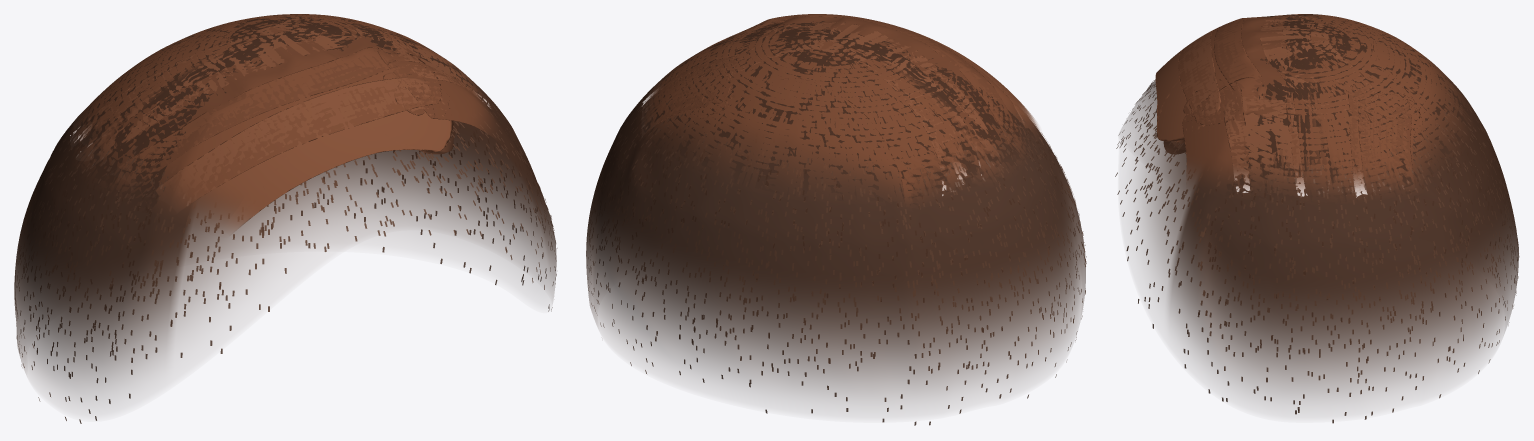
The model's file is Masculine-taper-covered248-hair.glb.
3 views of the same model, side by side, from view 1: azimuth 30°, elevation 25°; view 2: azimuth 150°, elevation 25°; view 3: azimuth 270°, elevation 25° (orthographic). The views are drawn at different scales.
Visible parts, largest first — view 1: 226 hair / Hair / neutral coverage235.002, 226 hair / Hair / sculpted 2.003 / blended tips214.002, 226 hair / Hair / sculpted 0.003 / blended tips214.002, 226 hair / Hair / sculpted 1.002 / blended tips214.001, 226 hair / Hair / cut grain235.002, 226 hair / Hair / blended back crown214.002, 226 hair / Hair / sculpted 2.003 / blended tips214.001, 226 hair / Hair / sculpted 1.002 / blended tips214.006, 226 hair / Hair / sculpted 0.003 / blended tips214.001, 226 hair / Hair / sculpted 2.003 / blended tips214.006; view 2: 226 hair / Hair / neutral coverage235.002, 226 hair / Hair / blended back crown214.002, 226 hair / Hair / cut grain235.002, 226 hair / Hair / sculpted 1.002 / blended tips214.001, 226 hair / Hair / sculpted 2.003 / blended tips214.001, 226 hair / Hair / sculpted 0.003 / blended tips214.001, 226 hair / Hair / sculpted 0.003 / blended tips214.002, 226 hair / Hair / sculpted 1.002 / blended tips214.002, 226 hair / Hair / sculpted 0.003 / blended tips214.006, 226 hair / Hair / sculpted 2.003 / blended tips214.002; view 3: 226 hair / Hair / neutral coverage235.002, 226 hair / Hair / blended back crown214.002, 226 hair / Hair / cut grain235.002, 226 hair / Hair / sculpted 2.003 / blended tips214.006, 226 hair / Hair / sculpted 1.002 / blended tips214.006, 226 hair / Hair / sculpted 2.003 / blended tips214.002, 226 hair / Hair / sculpted 1.002 / blended tips214.001, 226 hair / Hair / sculpted 0.003 / blended tips214.002, 226 hair / Hair / sculpted 0.003 / blended tips214.006, 226 hair / Hair / sculpted 1.002 / blended tips214.002, 226 hair / Hair / sculpted 2.003 / blended tips214.001, 226 hair / Hair / sculpted 0.003 / blended tips214.001.
Boxes of the visible parts, x1=… form: 226 hair / Hair / neutral coverage235.002: x1=14, y1=14, x2=556, y2=401; 226 hair / Hair / sculpted 2.003 / blended tips214.002: x1=150, y1=77, x2=458, y2=233; 226 hair / Hair / sculpted 0.003 / blended tips214.002: x1=111, y1=47, x2=441, y2=210; 226 hair / Hair / sculpted 1.002 / blended tips214.001: x1=83, y1=22, x2=420, y2=188; 226 hair / Hair / cut grain235.002: x1=14, y1=65, x2=557, y2=423; 226 hair / Hair / blended back crown214.002: x1=73, y1=14, x2=423, y2=151; 226 hair / Hair / sculpted 2.003 / blended tips214.001: x1=75, y1=14, x2=392, y2=165; 226 hair / Hair / sculpted 1.002 / blended tips214.006: x1=383, y1=60, x2=496, y2=137; 226 hair / Hair / sculpted 0.003 / blended tips214.001: x1=76, y1=14, x2=339, y2=140; 226 hair / Hair / sculpted 2.003 / blended tips214.006: x1=372, y1=36, x2=486, y2=101; 226 hair / Hair / neutral coverage235.002: x1=586, y1=20, x2=1085, y2=405; 226 hair / Hair / blended back crown214.002: x1=640, y1=34, x2=986, y2=203; 226 hair / Hair / cut grain235.002: x1=586, y1=68, x2=1086, y2=425; 226 hair / Hair / sculpted 1.002 / blended tips214.001: x1=732, y1=14, x2=1023, y2=173; 226 hair / Hair / sculpted 2.003 / blended tips214.001: x1=706, y1=22, x2=1001, y2=188; 226 hair / Hair / sculpted 0.003 / blended tips214.001: x1=690, y1=39, x2=966, y2=203; 226 hair / Hair / sculpted 0.003 / blended tips214.002: x1=760, y1=14, x2=1036, y2=155; 226 hair / Hair / sculpted 1.002 / blended tips214.002: x1=642, y1=56, x2=744, y2=133; 226 hair / Hair / sculpted 0.003 / blended tips214.006: x1=646, y1=31, x2=757, y2=100; 226 hair / Hair / sculpted 2.003 / blended tips214.002: x1=905, y1=28, x2=1036, y2=131; 226 hair / Hair / neutral coverage235.002: x1=1120, y1=14, x2=1518, y2=405; 226 hair / Hair / blended back crown214.002: x1=1307, y1=14, x2=1466, y2=193; 226 hair / Hair / cut grain235.002: x1=1115, y1=68, x2=1519, y2=423; 226 hair / Hair / sculpted 2.003 / blended tips214.006: x1=1223, y1=85, x2=1305, y2=193; 226 hair / Hair / sculpted 1.002 / blended tips214.006: x1=1182, y1=79, x2=1249, y2=191; 226 hair / Hair / sculpted 2.003 / blended tips214.002: x1=1155, y1=30, x2=1220, y2=154; 226 hair / Hair / sculpted 1.002 / blended tips214.001: x1=1213, y1=14, x2=1322, y2=117; 226 hair / Hair / sculpted 0.003 / blended tips214.002: x1=1178, y1=17, x2=1267, y2=125; 226 hair / Hair / sculpted 0.003 / blended tips214.006: x1=1286, y1=87, x2=1364, y2=194; 226 hair / Hair / sculpted 1.002 / blended tips214.002: x1=1348, y1=84, x2=1414, y2=191; 226 hair / Hair / sculpted 2.003 / blended tips214.001: x1=1260, y1=14, x2=1378, y2=122; 226 hair / Hair / sculpted 0.003 / blended tips214.001: x1=1310, y1=15, x2=1422, y2=134.
Size of the model in its own units: 0.9596 by 0.6126 by 0.7715.
